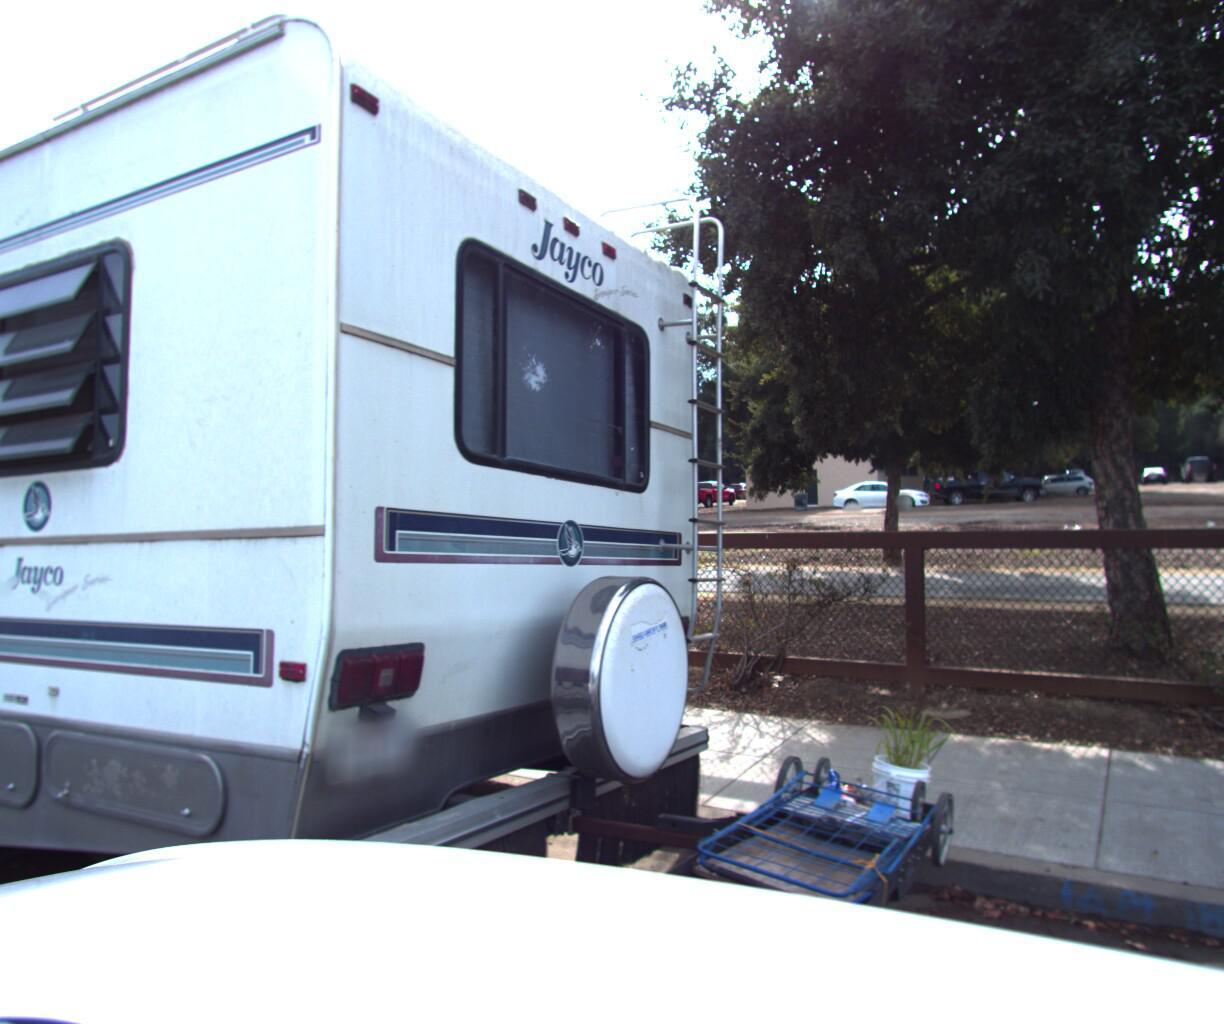other_vehicle: (0, 0, 797, 1024)
